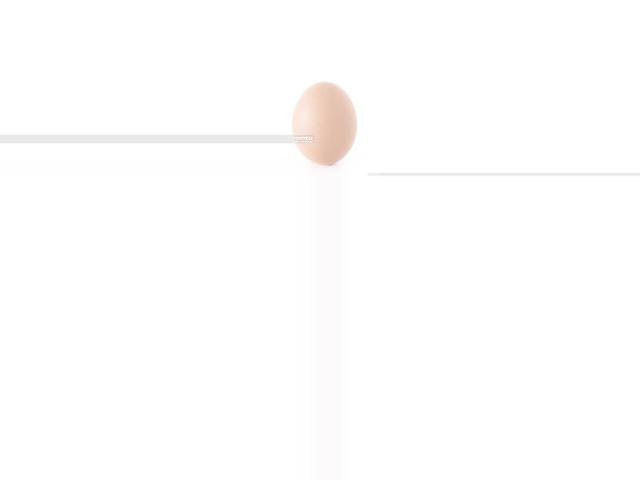egg: (291, 81, 356, 163)
